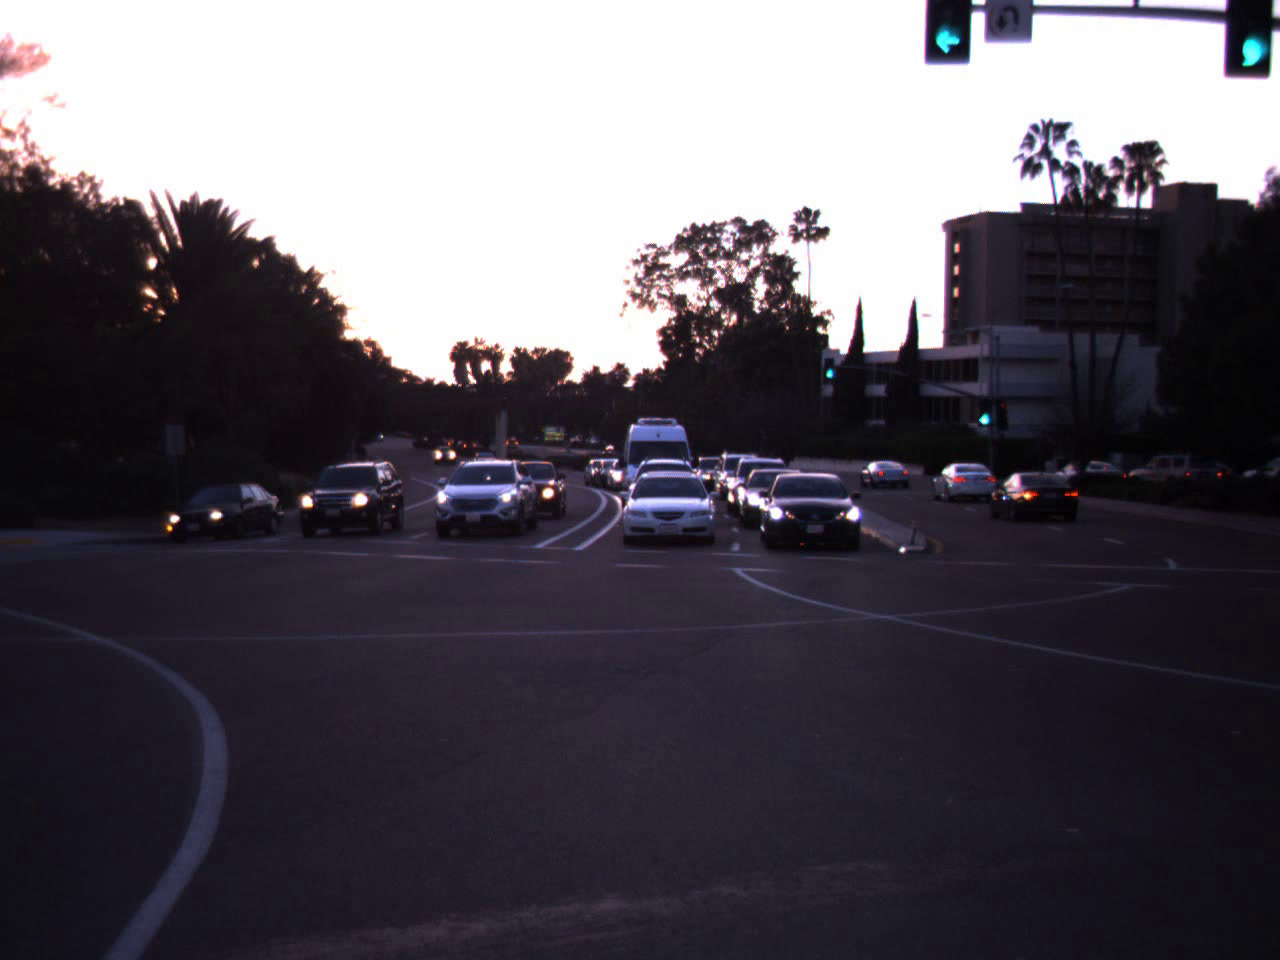go: (900, 0, 993, 69), (1225, 0, 1279, 79), (965, 366, 1004, 431), (822, 342, 837, 382)
